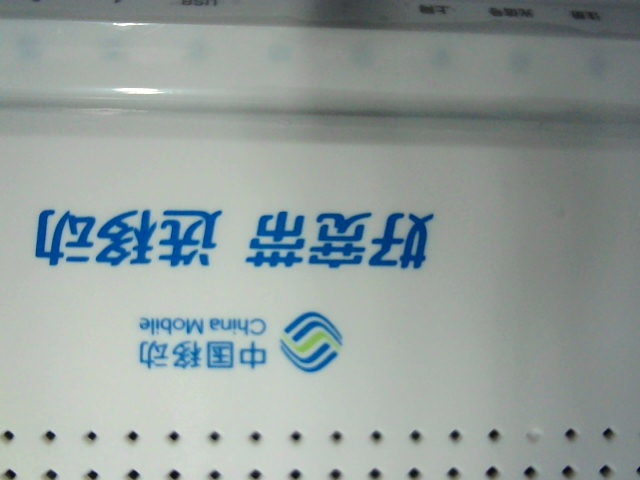AA_ChinaMobile: (22, 199, 434, 371)
